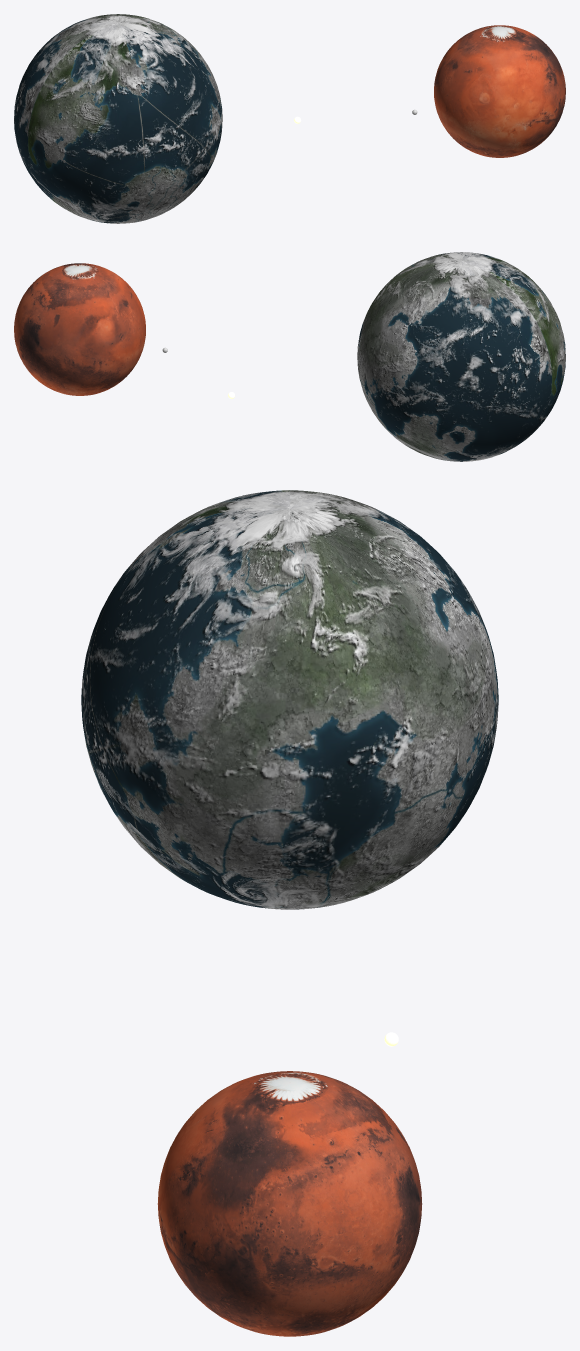
Rendered from planets.glb.
3 views of the same model, one above another, from view 1: azimuth 30°, elevation 25°; view 2: azimuth 150°, elevation 25°; view 3: azimuth 270°, elevation 25° (orthographic). The views are drawn at different scales.
Visible parts, largest first — view 1: earth, mars; view 2: earth, mars; view 3: earth, mars.
Boxes of the visible parts, x1=… form: earth: x1=14, y1=14, x2=222, y2=223; mars: x1=434, y1=25, x2=565, y2=157; earth: x1=357, y1=252, x2=565, y2=461; mars: x1=14, y1=263, x2=145, y2=395; earth: x1=81, y1=490, x2=498, y2=909; mars: x1=157, y1=1071, x2=422, y2=1336.
Bounding box in the file's own units: 5.78 × 2.31 × 1.97.
Materials: 3 (2 with a texture image).
